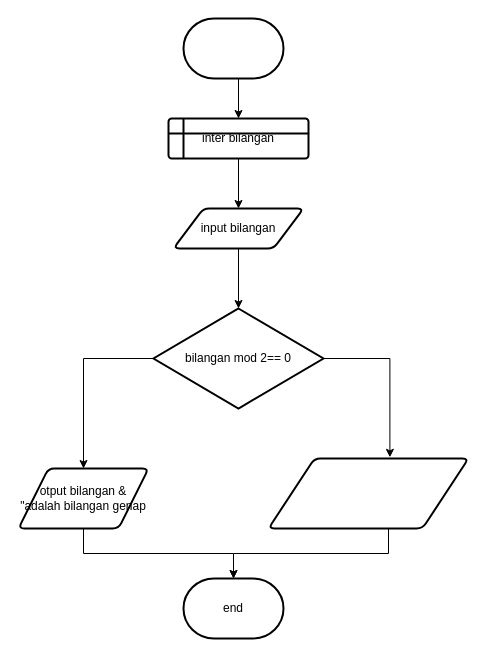
Some shapes in this 486 by 656 pixel diagram are drawn without their labels. Here are the shapes that lost their labels. From the top down, the centre of each, then its label:
[233,48]: main
[368,493]: otput bilangan & "adalah bilangan genap"
